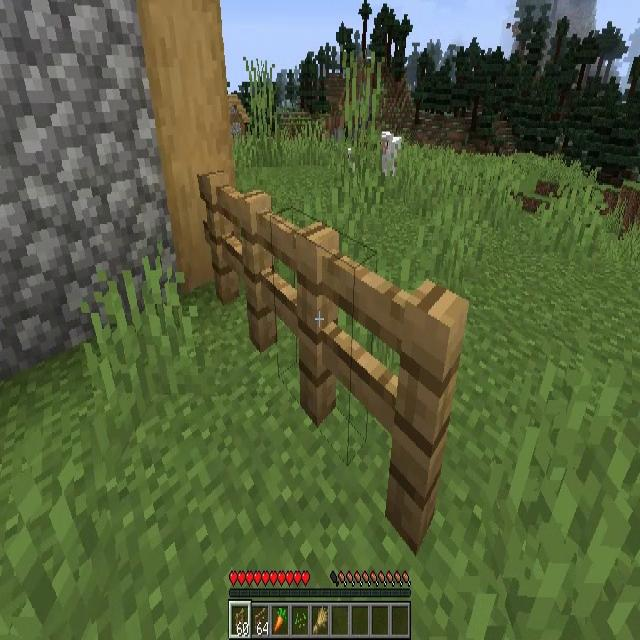sheep: (379, 132, 402, 177), (344, 148, 358, 174)
